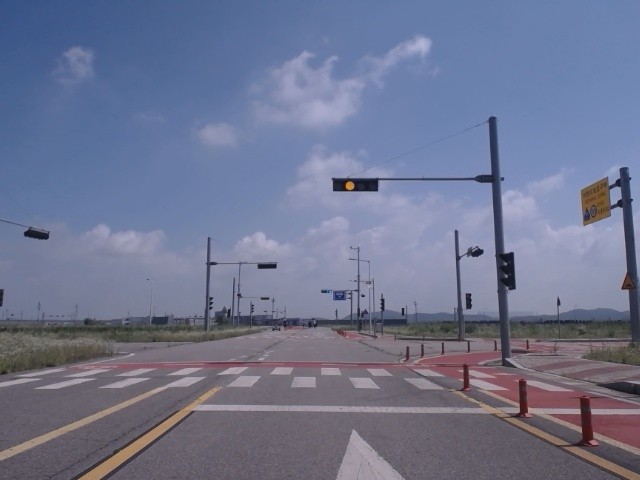orange_4: (335, 178, 379, 191)
